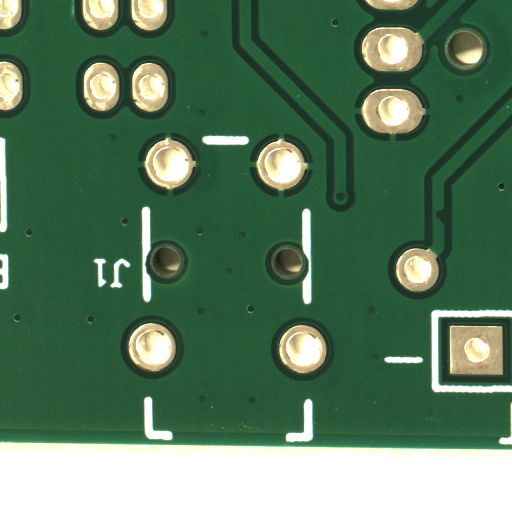Mouse_bite: (440, 216, 449, 231)
